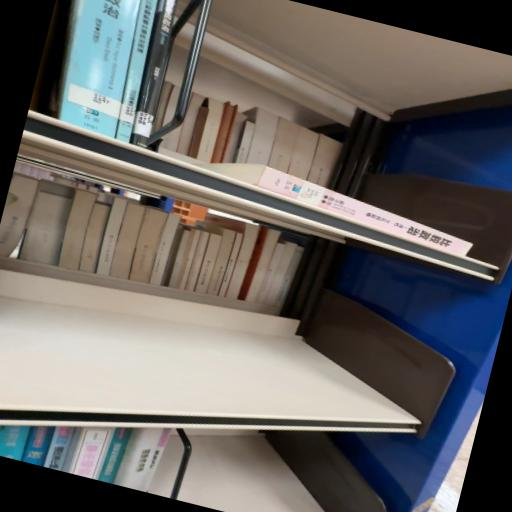flat: (198, 164, 474, 257)
